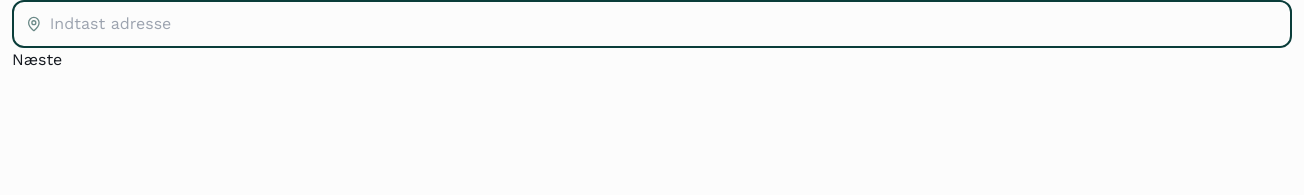
Scenario: Booking flow gate — DAWA validation is required › enables Next only after picking a validated DAWA suggestion
The image size is (1304, 195).
Type "Amagerbro" into the dropdown with placeholder "Indtast adresse". click: (664, 24)
box: 50,12 -> 1278,36
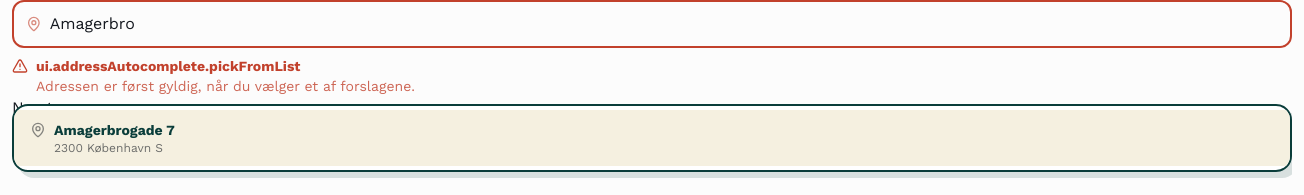
Expected: the button with test id "next" is disabled, 12,96 -> 62,120
Click the button "Amagerbrogade 7 2300 København S". click: (114, 130)
box: 14,110 -> 1290,166
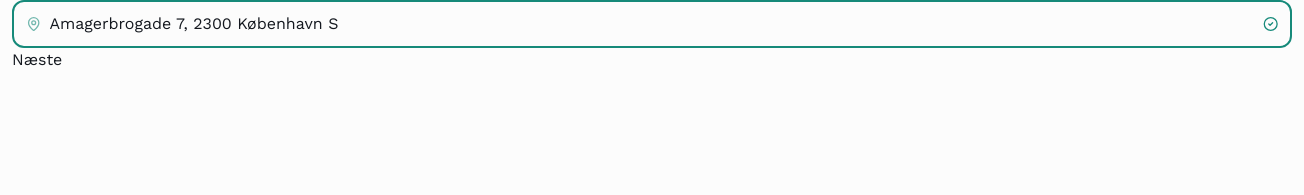
Expected: the button with test id "next" is enabled, 12,48 -> 62,72
